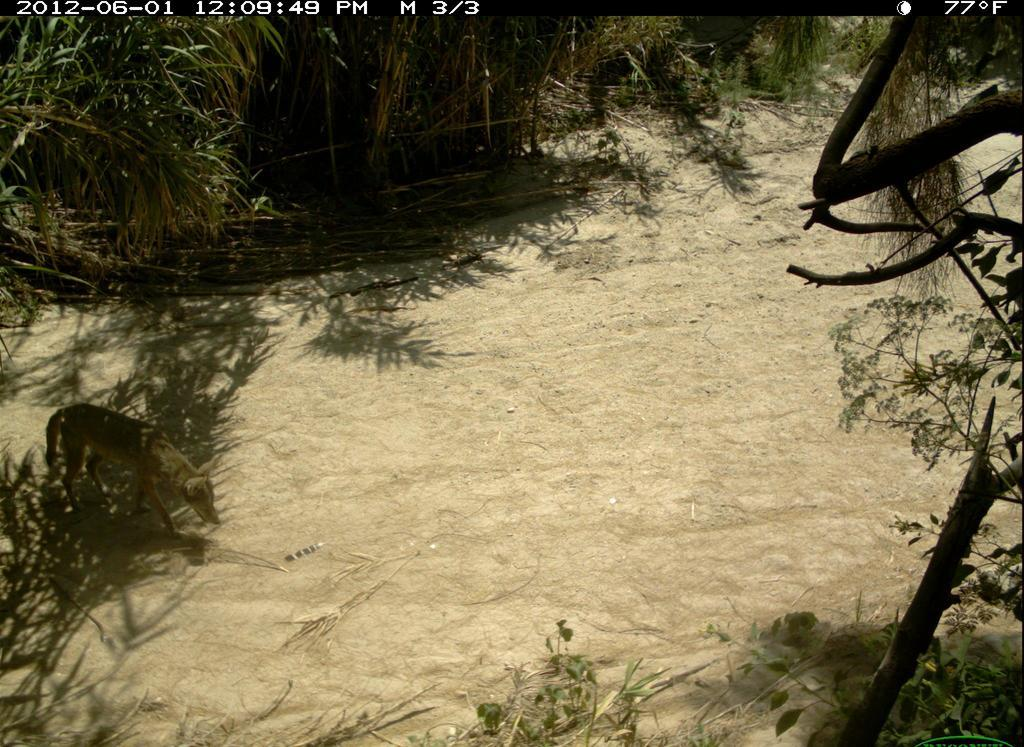coyote: (38, 396, 225, 545)
